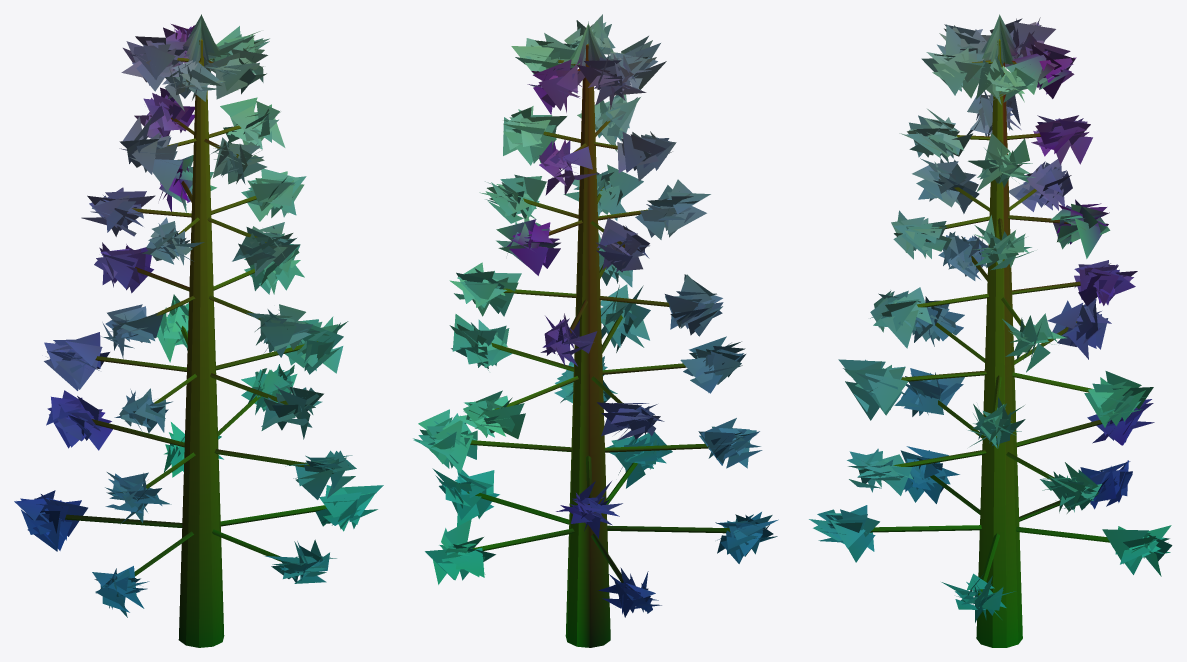
File: ecological_conifer_established_01.glb
3 views of the same model, side by side, from view 1: azimuth 30°, elevation 25°; view 2: azimuth 150°, elevation 25°; view 3: azimuth 270°, elevation 25° (orthographic).
Visible parts, largest first — view 1: ecological_conifer_established_01; view 2: ecological_conifer_established_01; view 3: ecological_conifer_established_01.
Part boxes in pixels (x1=…): ecological_conifer_established_01: x1=14, y1=14, x2=383, y2=647; ecological_conifer_established_01: x1=413, y1=14, x2=778, y2=647; ecological_conifer_established_01: x1=809, y1=14, x2=1172, y2=647.
Size of the model in its own units: 8.95 by 16.85 by 8.91.
